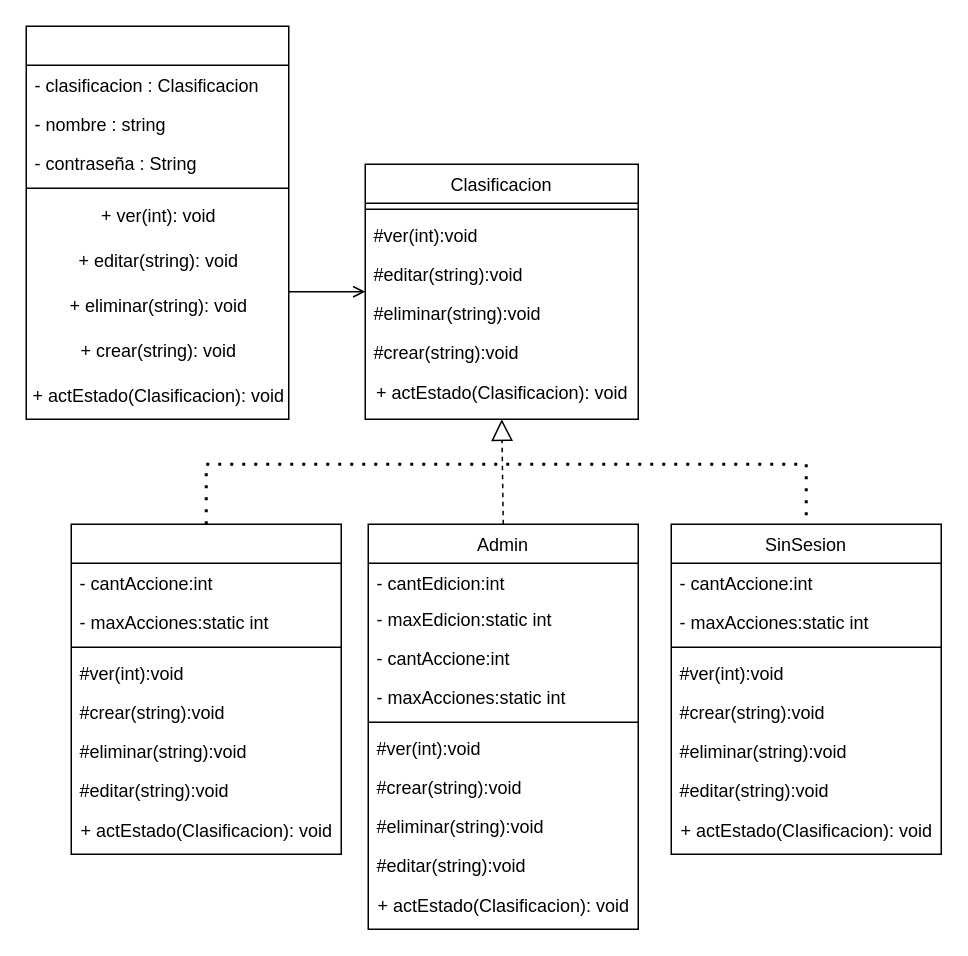
Some shapes in this 968 by 956 pixel diagram are drawn without their labels. Here are the shapes that lost their labels. From the top down, the box of each, then its label:
(25, 25, 289, 419): Usuario
(70, 523, 341, 854): Normal
